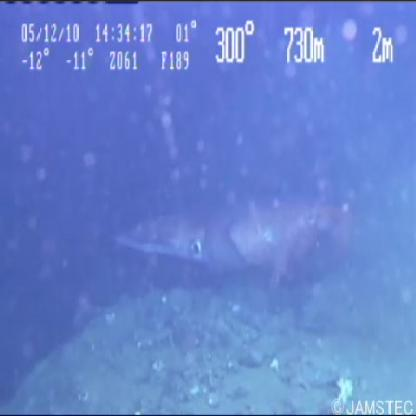Bio: (109, 194, 360, 283)
